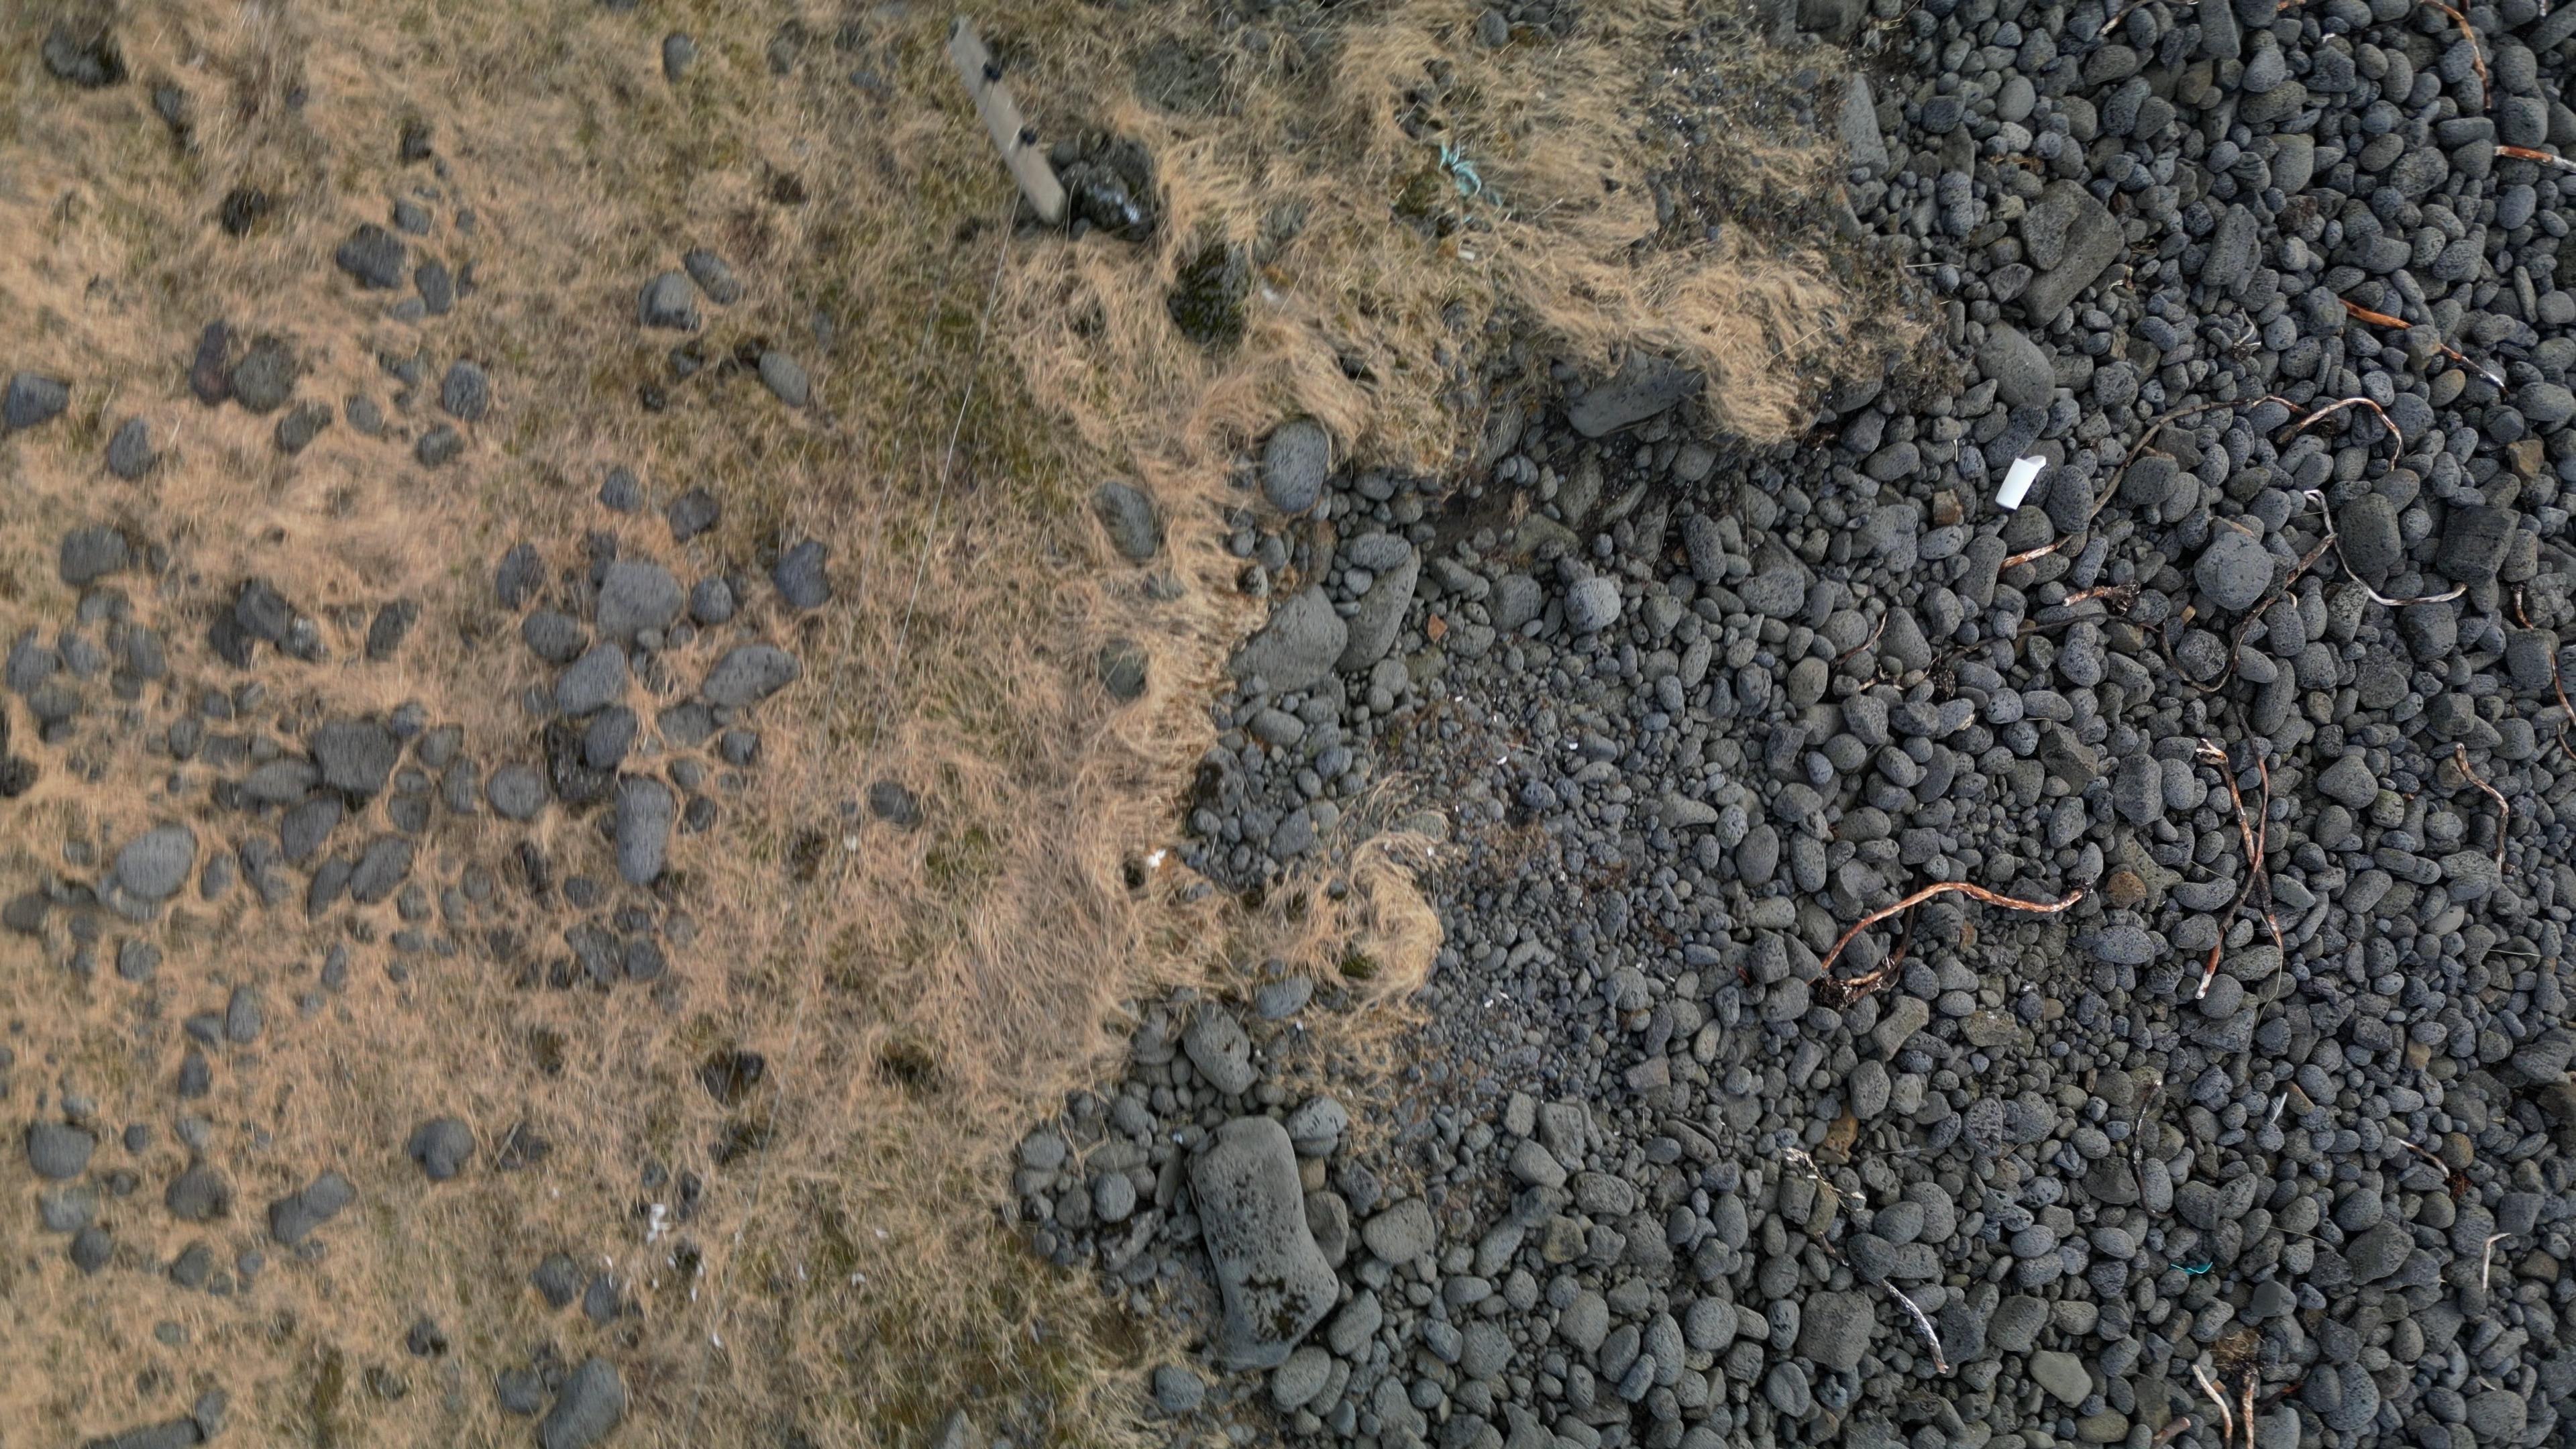trash: (1992, 453, 2047, 513)
